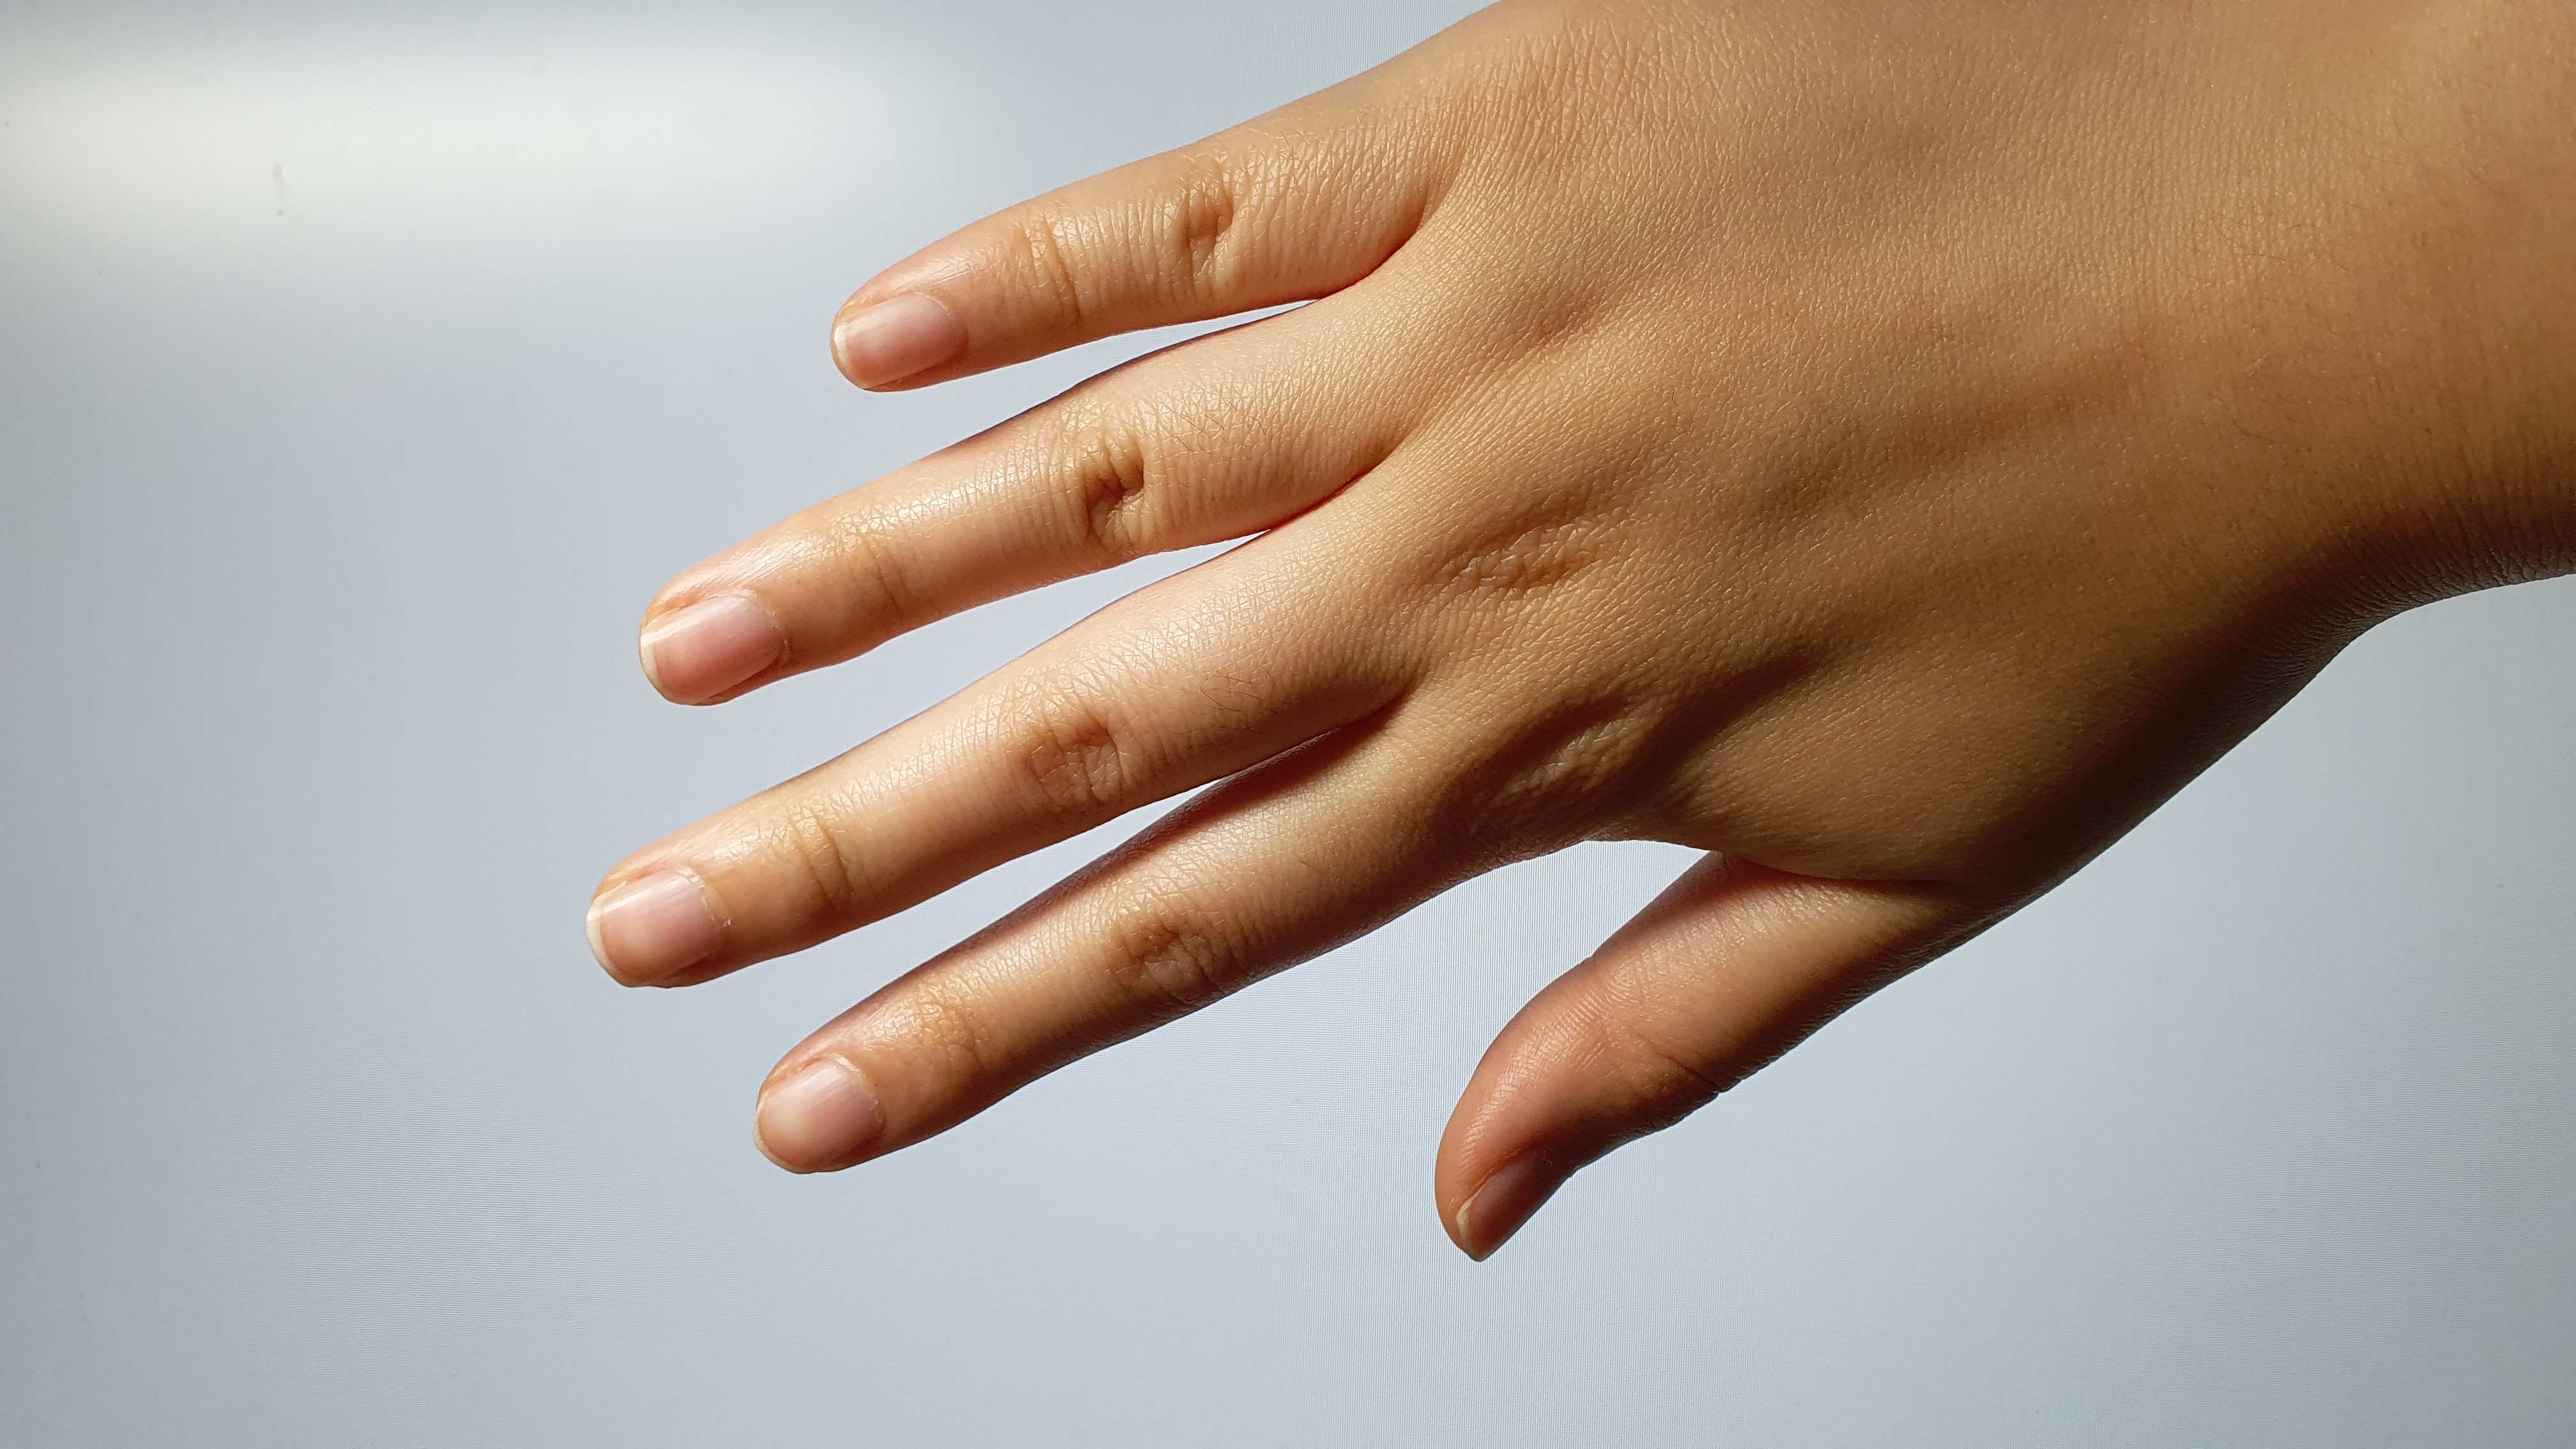backhand: (1399, 0, 2295, 881)
hand: (559, 0, 2307, 1286)
index finger: (736, 729, 1456, 1198)
middle finger: (571, 540, 1399, 1008)
pinky: (817, 69, 1463, 412)
ring finger: (623, 303, 1405, 725)
thumb: (1444, 869, 1916, 1258)
